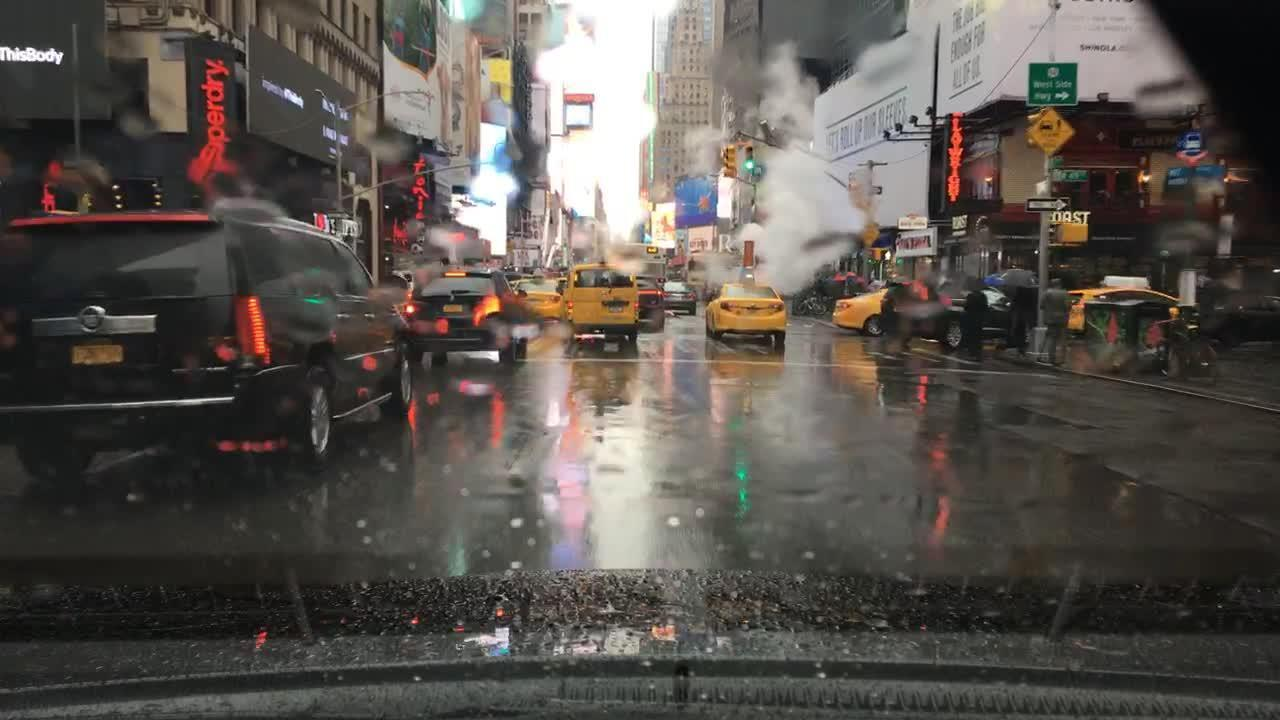cadillac: (72, 301, 109, 335)
